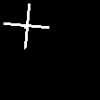single_crochet: (4, 4, 48, 48)
